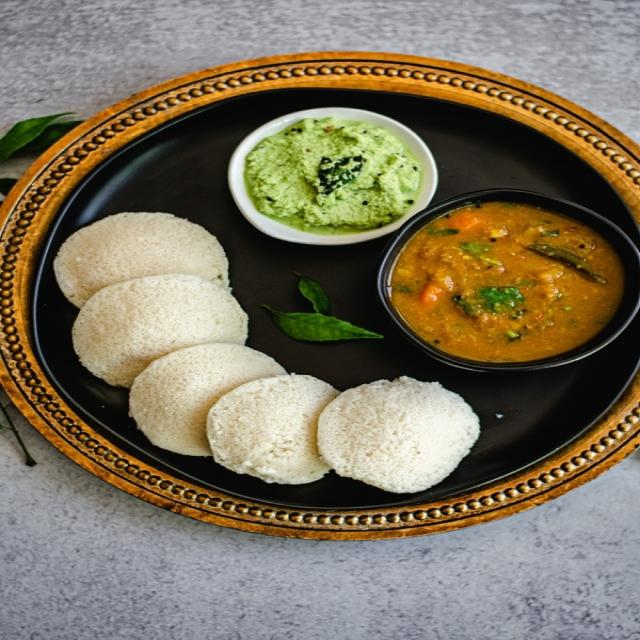Wet Waste: (134, 340, 298, 459), (73, 275, 256, 379), (246, 119, 424, 224), (57, 214, 241, 314), (318, 378, 477, 488), (209, 375, 352, 484)
